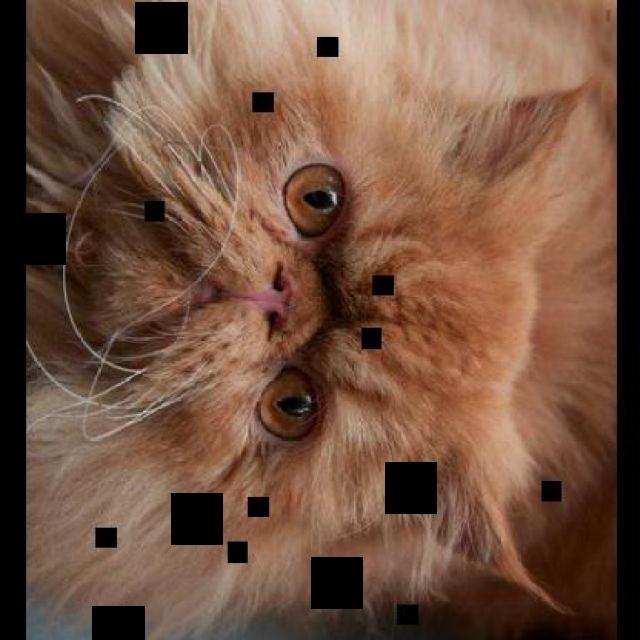unauthorized: (24, 0, 617, 638)
